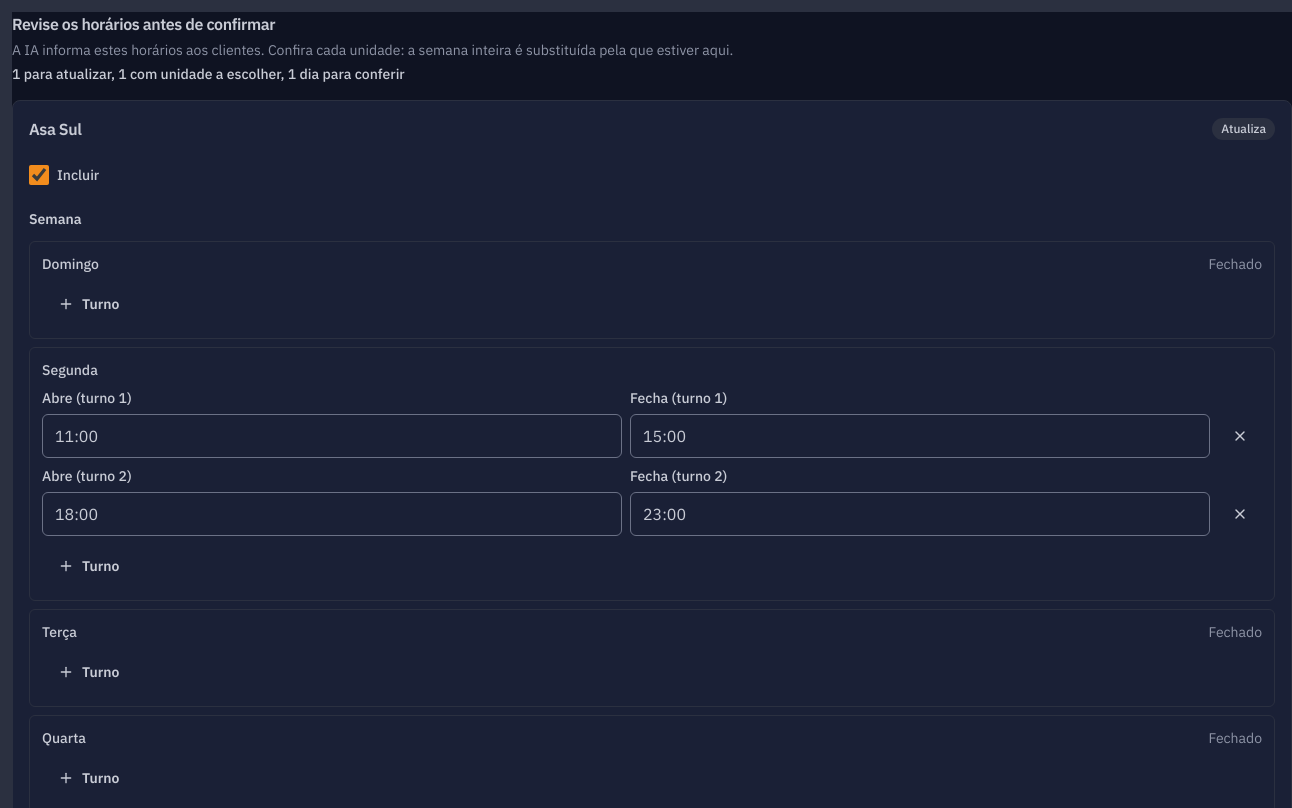
Test case: RevisaoHorarios › adicionar e remover turno; dia sem turno vira Fechado
Click the button with aria-label "Adicionar turno no domingo" at (89, 304), box 42,282 -> 135,326
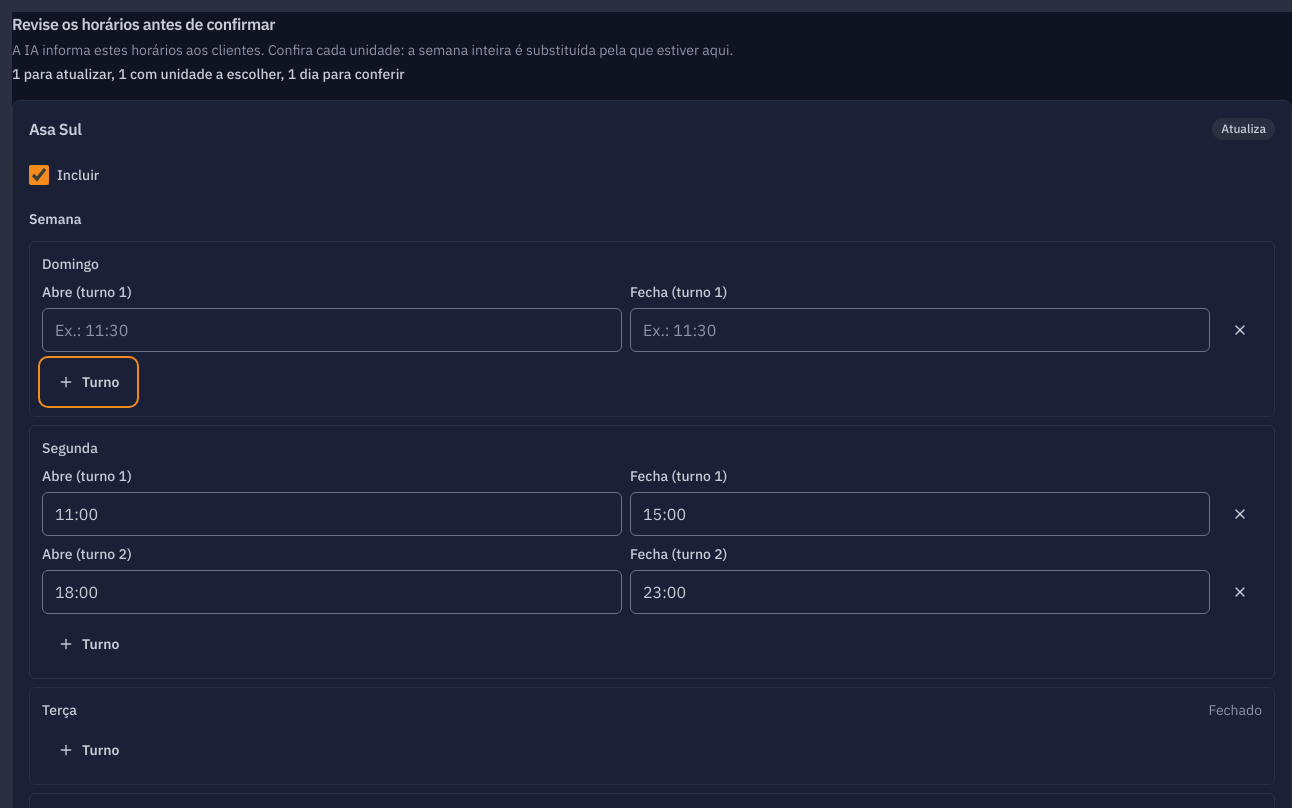
Check: the number of fields labelled "Abre (turno 1)" is 1, box 42,308 -> 622,352
Click the button named "Remover turno 1 do domingo" at (1240, 330), box 1218,308 -> 1262,352
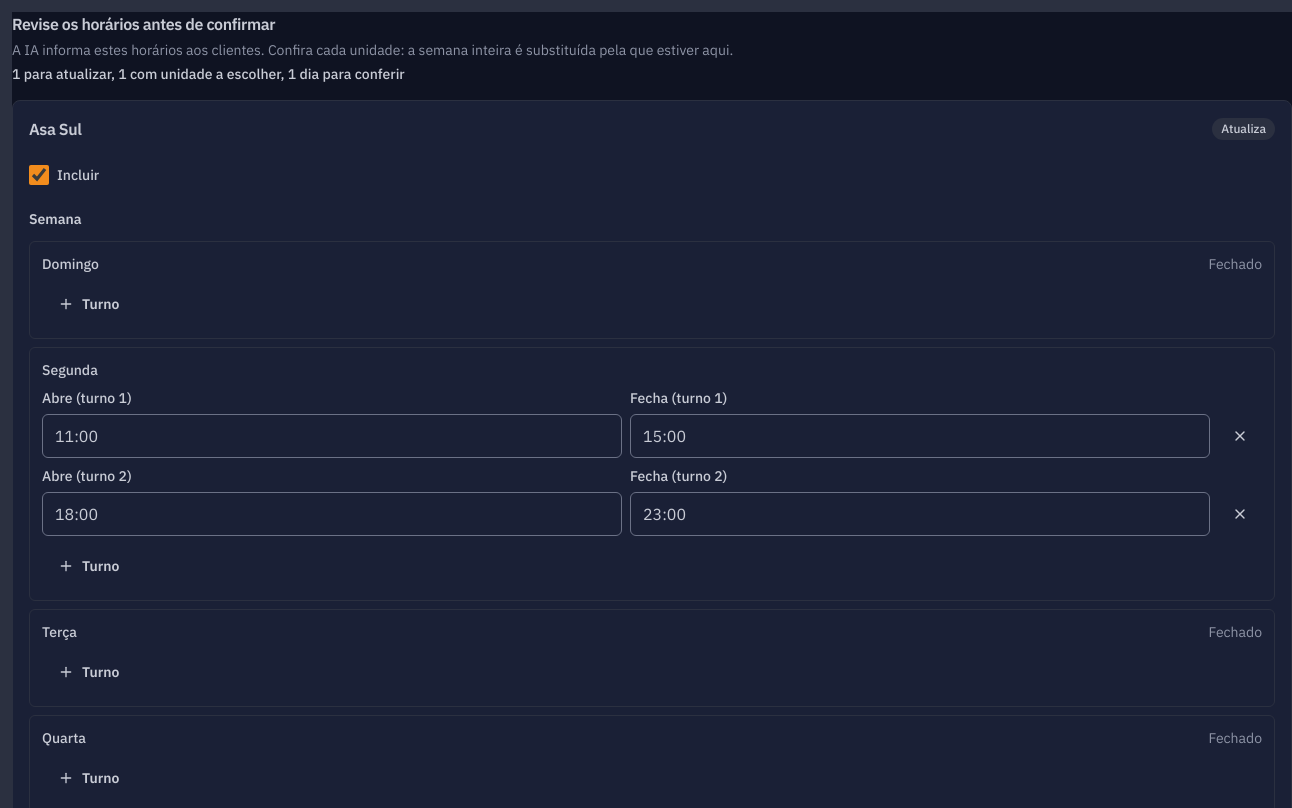
Check: the text "Fechado" in the row of "Domingo" is shown, box 1208,255 -> 1262,273
